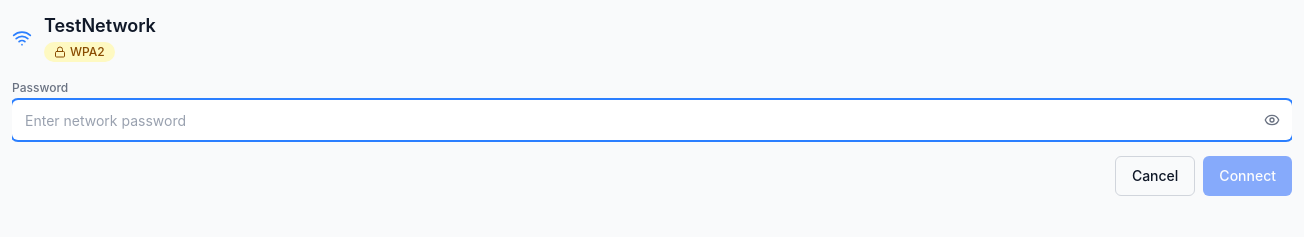
Test: WifiConnectDialog › clears validation error when user types more
Type "short" into the password field labelled "Password".
click(652, 120); type("short")  # box [12,100,1292,140]
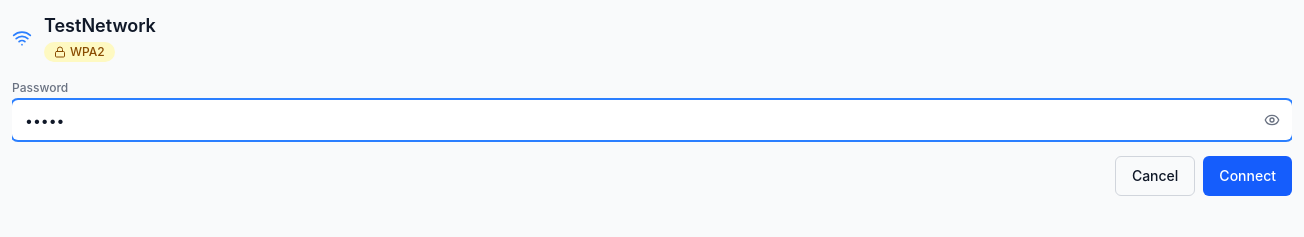
Click the button "Connect".
click(1248, 176)  # box [1203,156,1292,196]
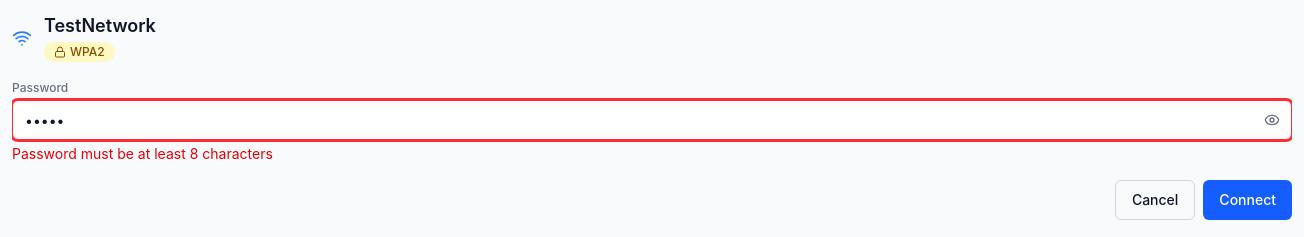
Expected: the text "Password must be at least 8 characters" is shown, [12,145,273,162]
Type "123" into the password field labelled "Password".
click(652, 120); type("123")  # box [12,100,1292,140]
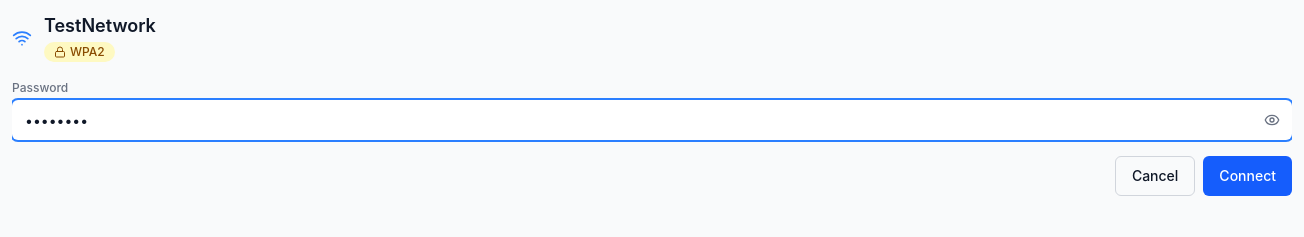
Expected: the text "Password must be at least 8 characters" is gone
